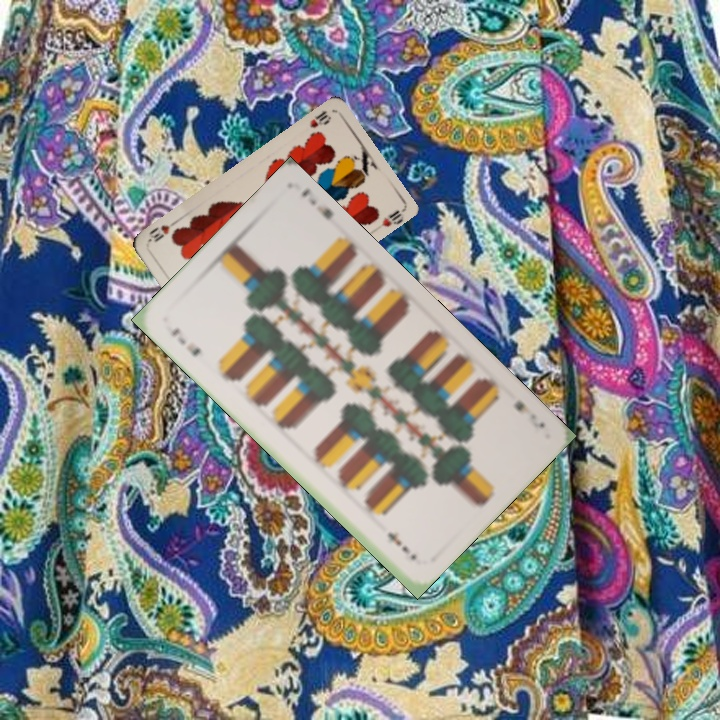E7: (166, 323, 204, 359), (509, 396, 548, 431)
H10: (306, 106, 334, 131)
